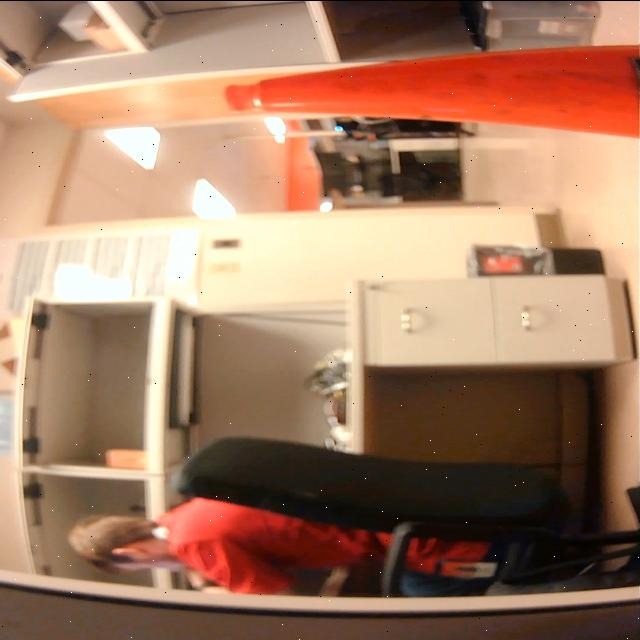traffic cone: (212, 36, 640, 152)
